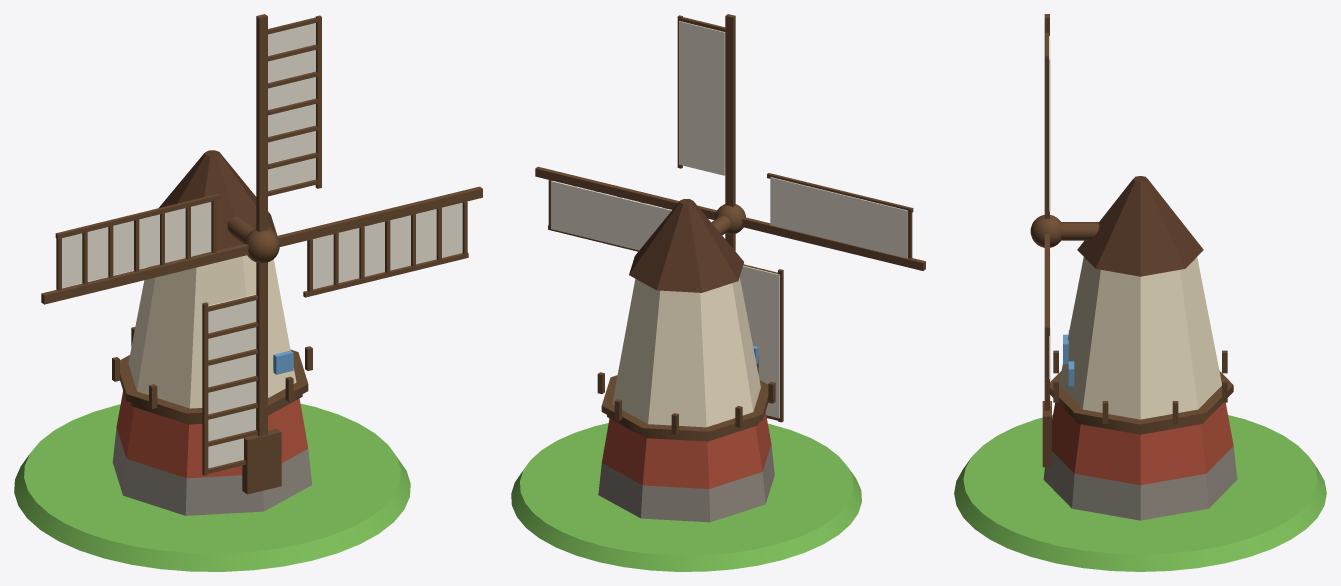
File: windmill.glb
The picture shows the model from 3 angles, left to right: view 1: azimuth 30°, elevation 25°; view 2: azimuth 150°, elevation 25°; view 3: azimuth 270°, elevation 25°; orthographic projection. The views are drawn at different scales.
Visible parts, largest first — view 1: Rig, Blades; view 2: Rig, Blades; view 3: Rig, Blades.
Boxes of the visible parts, x1=… form: Rig: x1=14, y1=150, x2=410, y2=571; Blades: x1=41, y1=14, x2=482, y2=475; Rig: x1=511, y1=199, x2=861, y2=571; Blades: x1=535, y1=14, x2=925, y2=422; Rig: x1=954, y1=176, x2=1326, y2=571; Blades: x1=1030, y1=14, x2=1061, y2=410.
Size of the model in its own units: 1.81 by 2 by 1.42.
